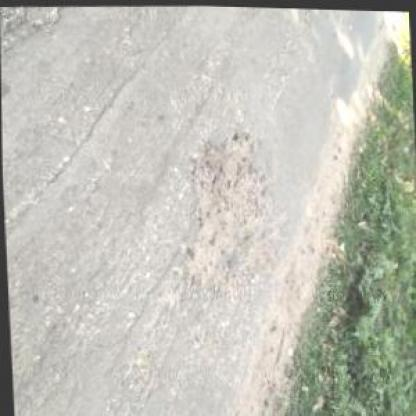pothole: (179, 124, 277, 286)
